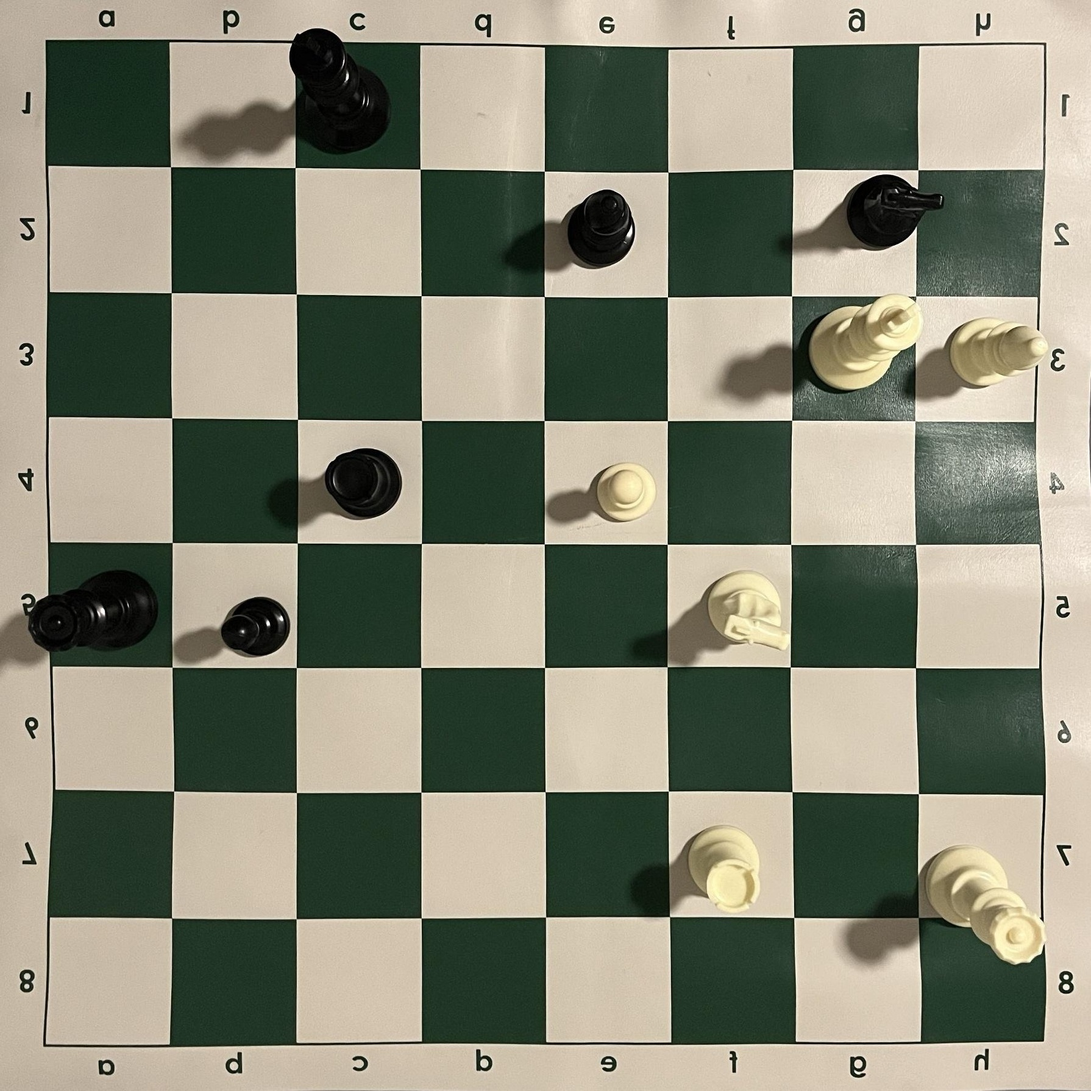black_bishop: (567, 189, 636, 269)
black_king: (288, 28, 391, 154)
black_knight: (846, 174, 944, 249)
black_pawn: (221, 597, 292, 659)
black_queen: (27, 569, 158, 655)
black_rook: (324, 447, 403, 521)
white_bishop: (948, 316, 1049, 389)
white_king: (808, 293, 923, 391)
white_knight: (706, 571, 791, 651)
white_pawn: (597, 463, 657, 522)
white_queen: (925, 845, 1047, 967)
white_rook: (688, 825, 763, 916)
